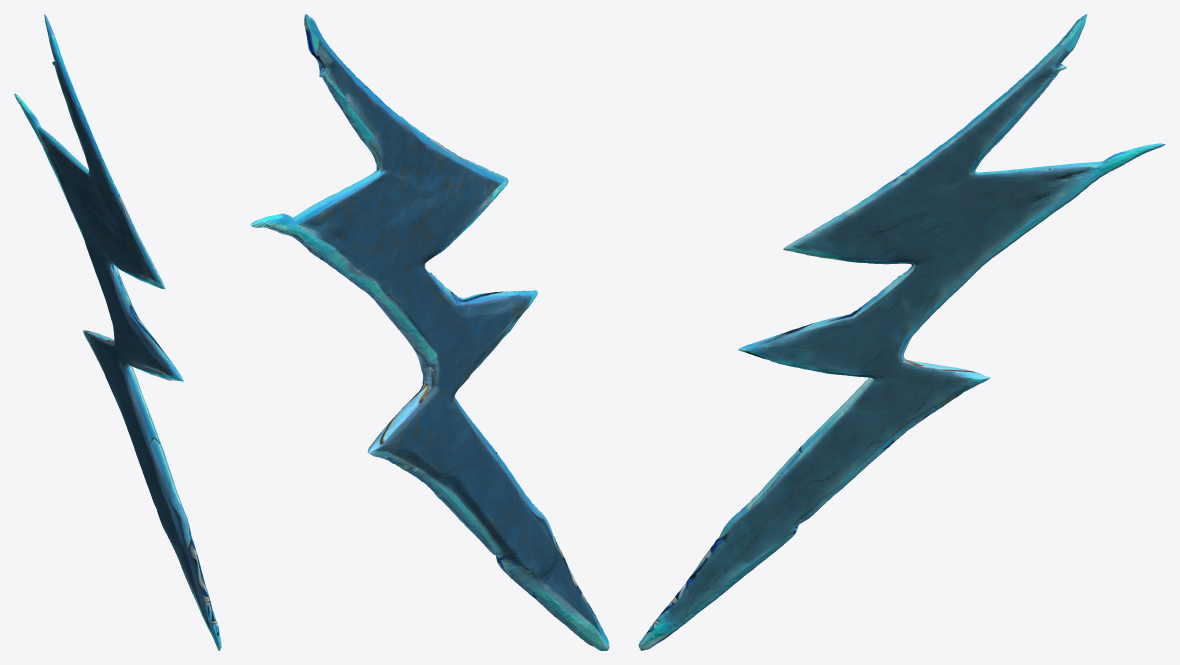
The model's file is A_stylized_3D_model_o_0615063554_texture.fbx.
The picture shows the model from 3 angles, left to right: view 1: azimuth 30°, elevation 25°; view 2: azimuth 150°, elevation 25°; view 3: azimuth 270°, elevation 25°; orthographic projection. The views are drawn at different scales.
Visible parts, largest first — view 1: temp; view 2: temp; view 3: temp.
Boxes of the visible parts, left/top/right/bottom form: temp: left=14, top=14, right=221, bottom=650; temp: left=250, top=14, right=609, bottom=650; temp: left=638, top=14, right=1165, bottom=650.
Size of the model in its own units: 5.26 by 200 by 149.
1 material, 1 textured.
